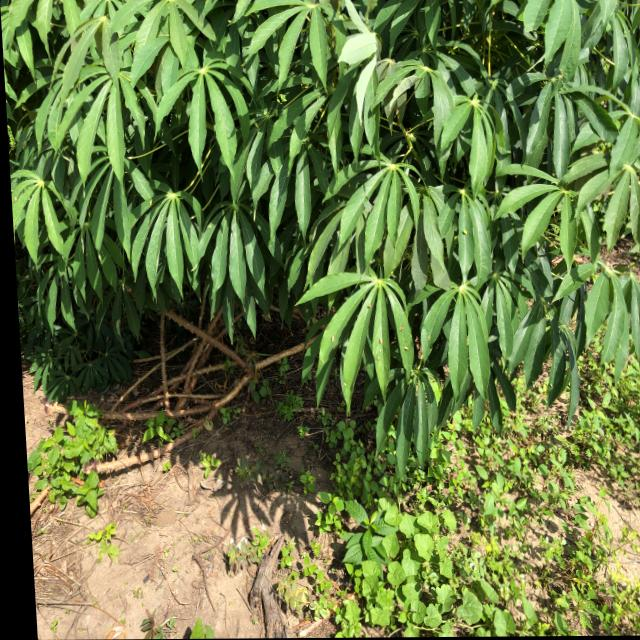Maleza: (327, 484, 640, 640), (458, 420, 636, 532), (22, 397, 142, 513)
Mosca: (324, 326, 349, 351), (398, 341, 419, 358), (358, 300, 378, 314), (373, 332, 387, 350), (456, 226, 468, 240), (393, 317, 403, 330)
